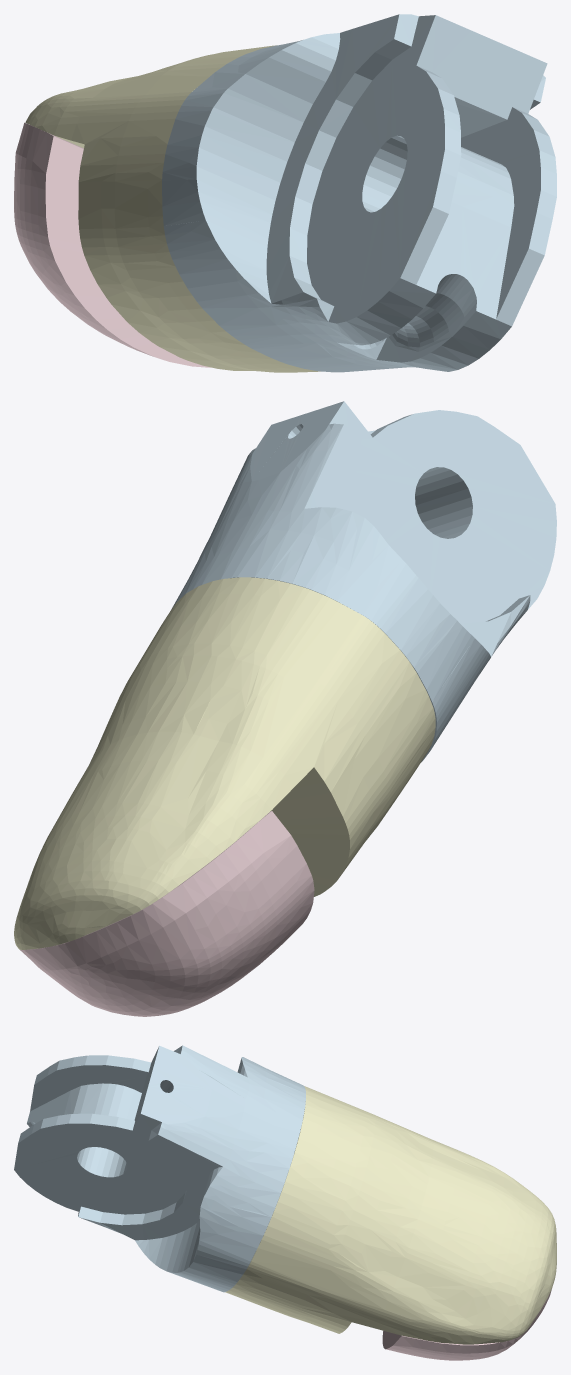
Rendered from i02_leftHand_majeureTip_visual.obj.balanced.glb.
3 renders of one model, top to bottom at view 1: azimuth 30°, elevation 25°; view 2: azimuth 150°, elevation 25°; view 3: azimuth 270°, elevation 25°, orthographic. The views are drawn at different scales.
Bounding box in the file's own units: 0.158 × 0.2377 × 0.3769.
